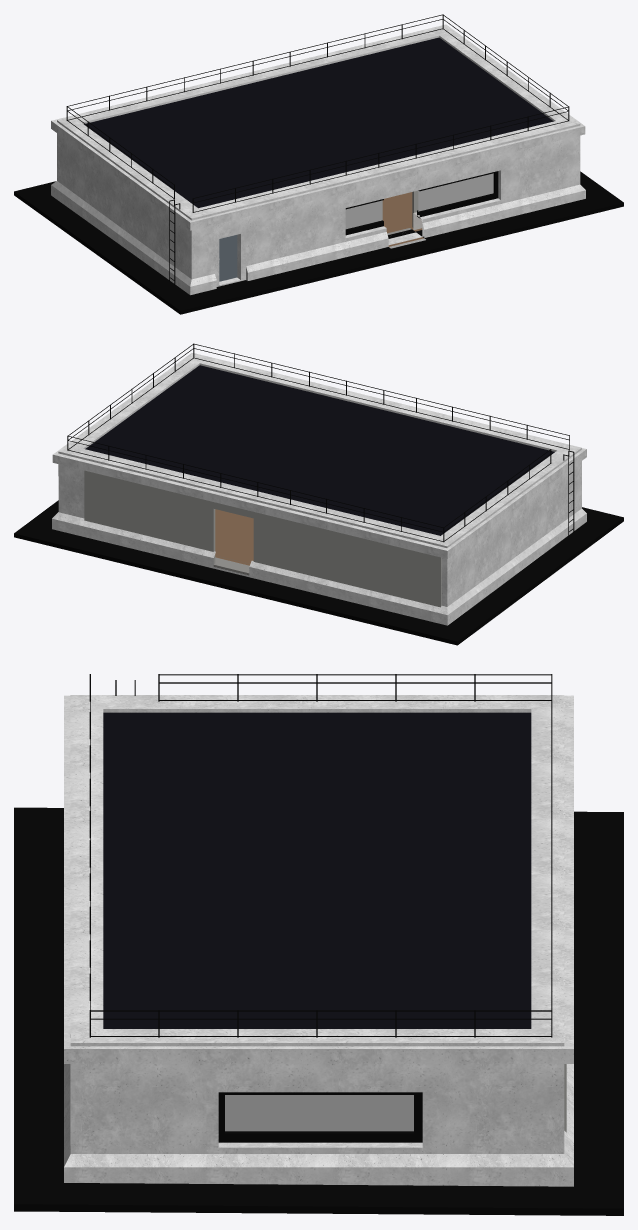
The model's file is control-post.access-v13.lod0.glb.
3 renders of one model, top to bottom at view 1: azimuth 30°, elevation 25°; view 2: azimuth 150°, elevation 25°; view 3: azimuth 270°, elevation 25°, orthographic. The views are drawn at different scales.
Visible parts, largest first — view 1: Inner_Floor_Floor_1_0, Inner_Floor_Outer_Walls_0, Railing_Railing_0, window_1_window_0; view 2: Inner_Floor_Floor_1_0, Inner_Floor_Outer_Walls_0, Railing_Railing_0; view 3: Inner_Floor_Floor_1_0, Inner_Floor_Outer_Walls_0, Railing_Railing_0, window_1_window_0.
Boxes of the visible parts, x1,y1,x2,y2 form: Inner_Floor_Floor_1_0: (14, 37, 623, 314); Inner_Floor_Outer_Walls_0: (51, 24, 585, 295); Railing_Railing_0: (66, 14, 569, 285); window_1_window_0: (345, 171, 498, 235); Inner_Floor_Floor_1_0: (14, 365, 623, 645); Inner_Floor_Outer_Walls_0: (52, 353, 586, 625); Railing_Railing_0: (67, 343, 574, 542); Inner_Floor_Floor_1_0: (14, 712, 623, 1215); Inner_Floor_Outer_Walls_0: (64, 695, 573, 1186); Railing_Railing_0: (89, 674, 552, 1037); window_1_window_0: (218, 1092, 422, 1142).
Size of the model in its own units: 19.9 by 4.09 by 12.93.
6 materials, 3 textured.
